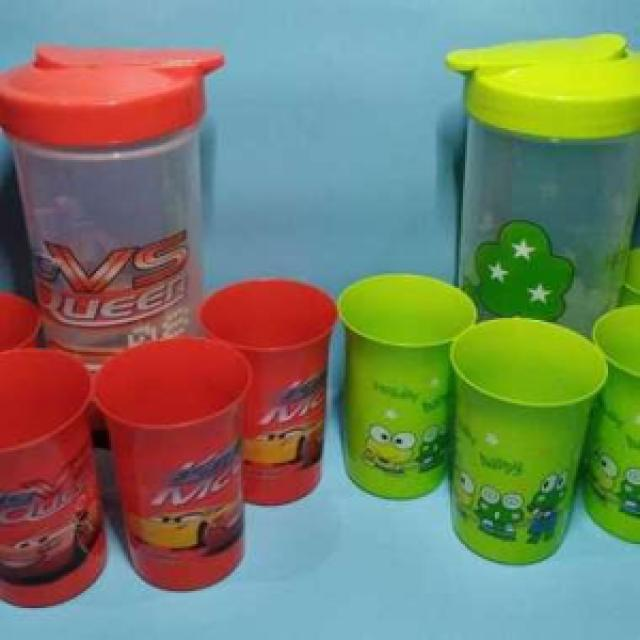plastic cup: (87, 333, 260, 597), (444, 309, 610, 574), (335, 267, 480, 512), (196, 273, 339, 510), (2, 342, 111, 616)
